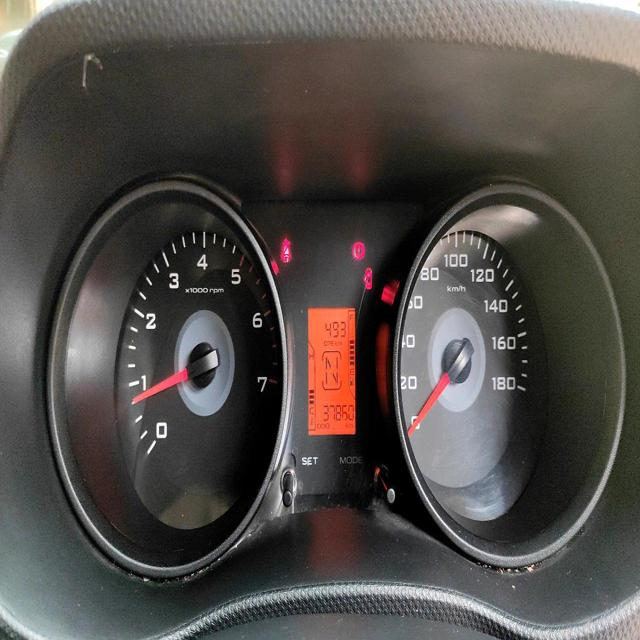odometer: (323, 402, 354, 421)
